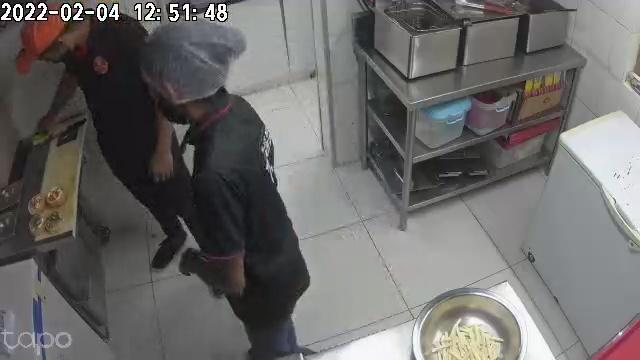no_gloves: (153, 138, 174, 184)
